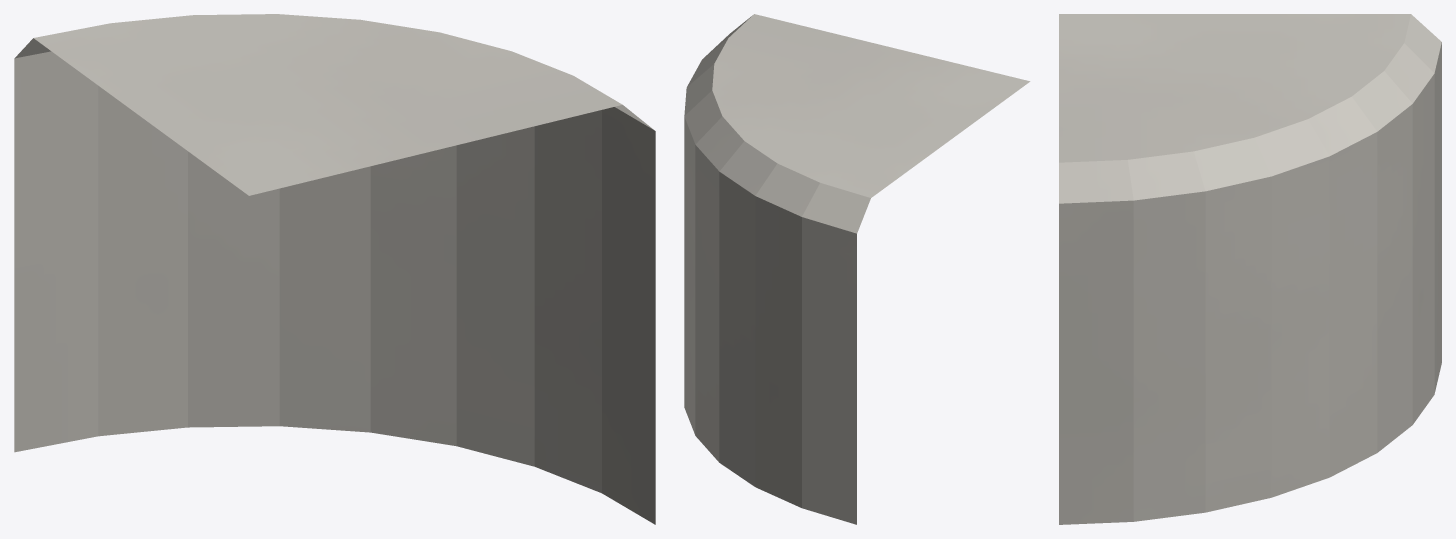
Rendered from outer.obj.
3 renders of one model, left to right at view 1: azimuth 30°, elevation 25°; view 2: azimuth 150°, elevation 25°; view 3: azimuth 270°, elevation 25°, orthographic. The views are drawn at different scales.
Visible parts, largest first — view 1: outer; view 2: outer; view 3: outer.
Boxes of the visible parts, x1,y1,x2,y2 form: outer: (14,14,655,524); outer: (684,14,1030,524); outer: (1059,14,1441,524).
Size of the model in its own units: 0.149 by 0.15 by 0.149.
